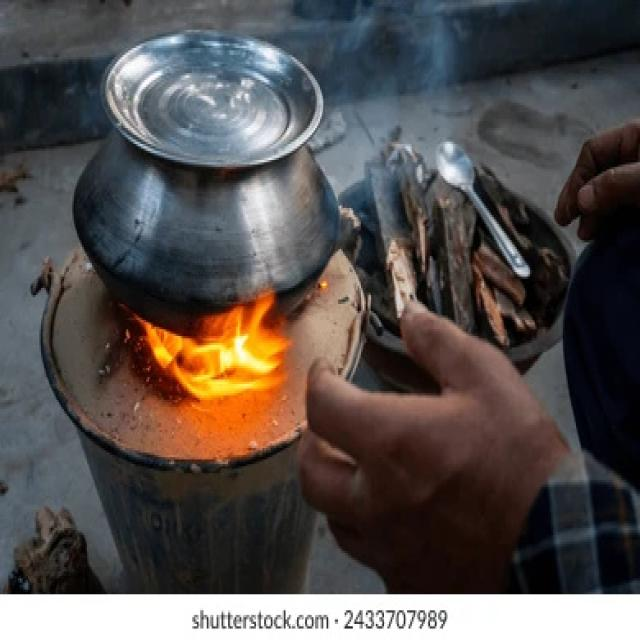fire: (135, 291, 293, 405)
